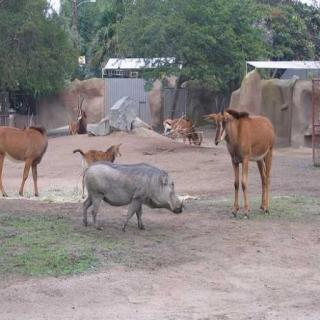Pig: (72, 152, 205, 246)
